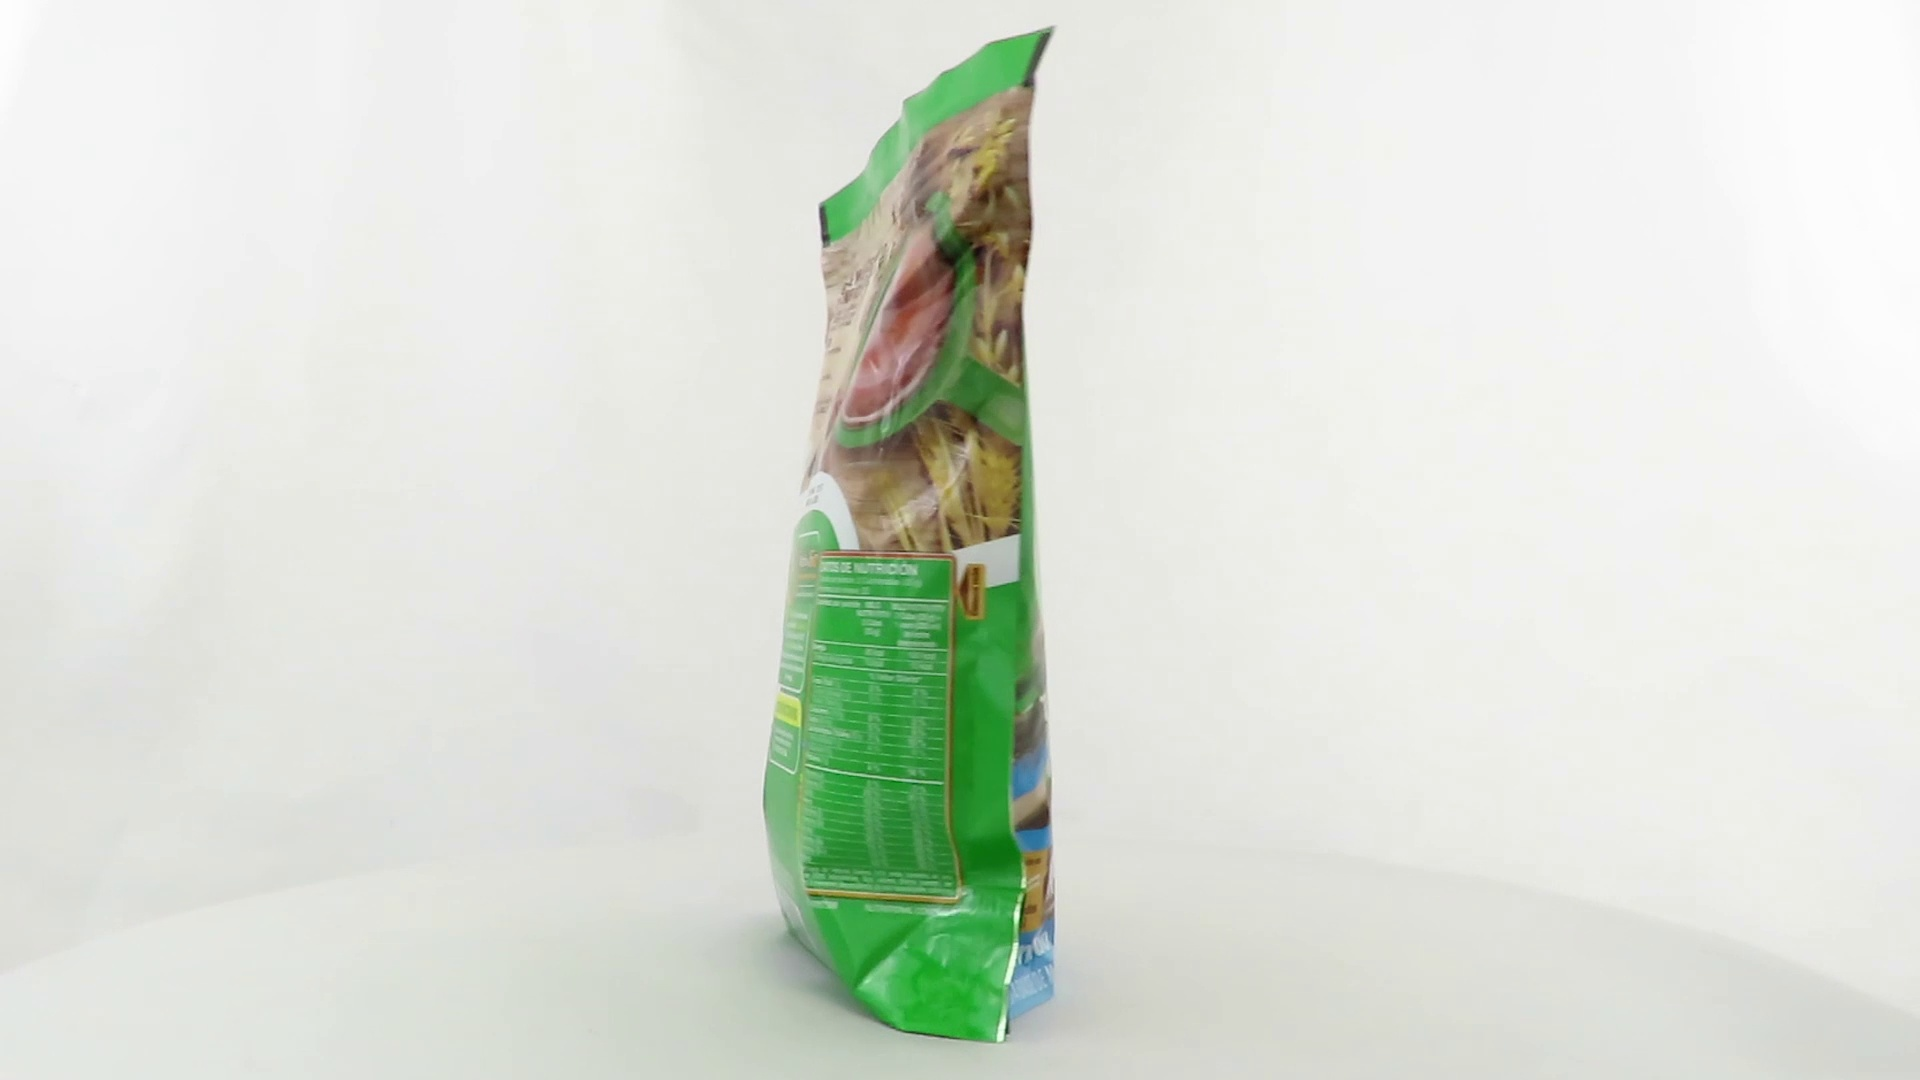COL0170205DYP50000: (757, 236, 1062, 1050)
